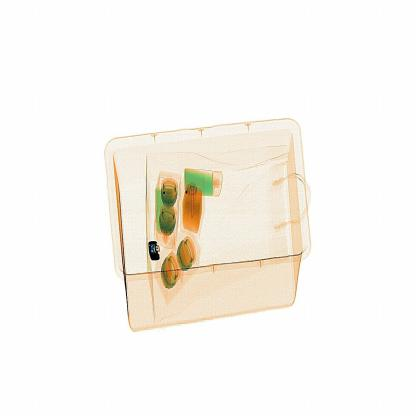pliers: (147, 241, 167, 264)
